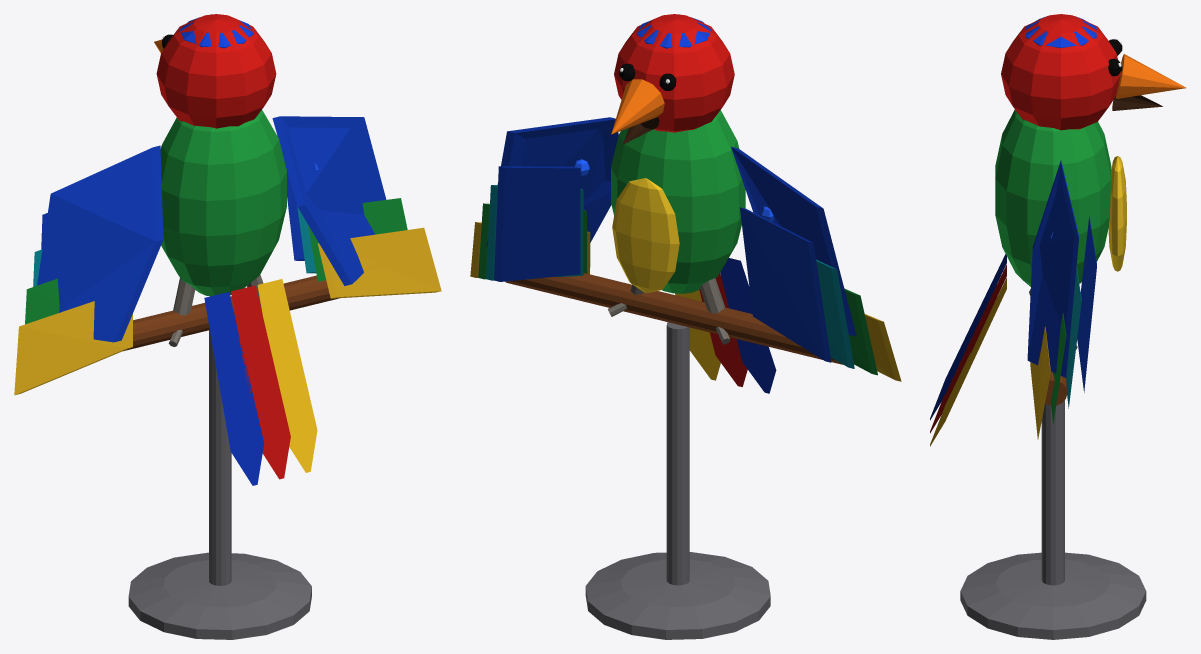
File: colorful_parrot_on_perch_fixed_wings.obj
The picture shows the model from 3 angles, left to right: view 1: azimuth 30°, elevation 25°; view 2: azimuth 150°, elevation 25°; view 3: azimuth 270°, elevation 25°; orthographic projection.
Visible parts, largest first — view 1: Body_rounded_green_chest, Left_wing_thick_outer_panel, Stand_round_weighted_base, Right_wing_thick_outer_panel, Head_round_red, Left_wing_thick_feather_04, Right_wing_thick_feather_04, Tail_thick_feather_01, Tail_thick_feather_02, Tail_thick_feather_03, Stand_vertical_metal_pole, Perch_horizontal_wooden_rod (+4 smaller); view 2: Body_rounded_green_chest, Stand_round_weighted_base, Right_wing_thick_feather_01, Head_round_red, Left_wing_thick_feather_01, Perch_horizontal_wooden_rod, Right_wing_thick_outer_panel, Stand_vertical_metal_pole, Belly_yellow_front_patch, Left_wing_thick_outer_panel, Tail_thick_feather_01, Left_wing_thick_feather_02 (+9 smaller); view 3: Body_rounded_green_chest, Stand_round_weighted_base, Head_round_red, Right_wing_thick_outer_panel, Stand_vertical_metal_pole, Belly_yellow_front_patch, Right_wing_thick_feather_01, Upper_curved_beak_orange, Right_wing_thick_feather_04, Tail_thick_feather_03, Tail_thick_feather_01, Tail_thick_feather_02 (+5 smaller).
Boxes of the visible parts, <box> form: Body_rounded_green_chest: <box>160,110,286,296</box>; Left_wing_thick_outer_panel: <box>37,145,163,342</box>; Stand_round_weighted_base: <box>128,552,311,639</box>; Right_wing_thick_outer_panel: <box>272,116,386,285</box>; Head_round_red: <box>156,14,276,128</box>; Left_wing_thick_feather_04: <box>14,301,132,395</box>; Right_wing_thick_feather_04: <box>317,227,441,298</box>; Tail_thick_feather_01: <box>204,292,264,485</box>; Tail_thick_feather_02: <box>231,285,290,479</box>; Tail_thick_feather_03: <box>257,279,317,472</box>; Stand_vertical_metal_pole: <box>209,330,231,585</box>; Perch_horizontal_wooden_rod: <box>123,275,338,351</box>; Body_rounded_green_chest: <box>611,110,745,293</box>; Stand_round_weighted_base: <box>585,552,770,639</box>; Right_wing_thick_feather_01: <box>494,166,580,281</box>; Head_round_red: <box>614,14,734,132</box>; Left_wing_thick_feather_01: <box>740,207,831,362</box>; Perch_horizontal_wooden_rod: <box>505,273,842,364</box>; Right_wing_thick_outer_panel: <box>486,117,618,246</box>; Stand_vertical_metal_pole: <box>666,322,689,585</box>; Belly_yellow_front_patch: <box>612,178,679,293</box>; Left_wing_thick_outer_panel: <box>731,147,856,336</box>; Tail_thick_feather_01: <box>720,258,776,393</box>; Left_wing_thick_feather_02: <box>816,259,854,368</box>; Body_rounded_green_chest: <box>995,109,1111,286</box>; Stand_round_weighted_base: <box>960,552,1146,639</box>; Head_round_red: <box>1001,14,1120,130</box>; Right_wing_thick_outer_panel: <box>1027,160,1078,377</box>; Stand_vertical_metal_pole: <box>1041,400,1064,585</box>; Belly_yellow_front_patch: <box>1108,156,1126,271</box>; Right_wing_thick_feather_01: <box>1077,216,1096,392</box>; Upper_curved_beak_orange: <box>1116,54,1186,98</box>; Right_wing_thick_feather_04: <box>1030,326,1050,439</box>; Tail_thick_feather_03: <box>930,277,1006,446</box>; Tail_thick_feather_01: <box>930,254,1006,420</box>; Tail_thick_feather_02: <box>930,264,1006,433</box>.
Bounding box in the file's own units: 1.93 × 2.54 × 1.
